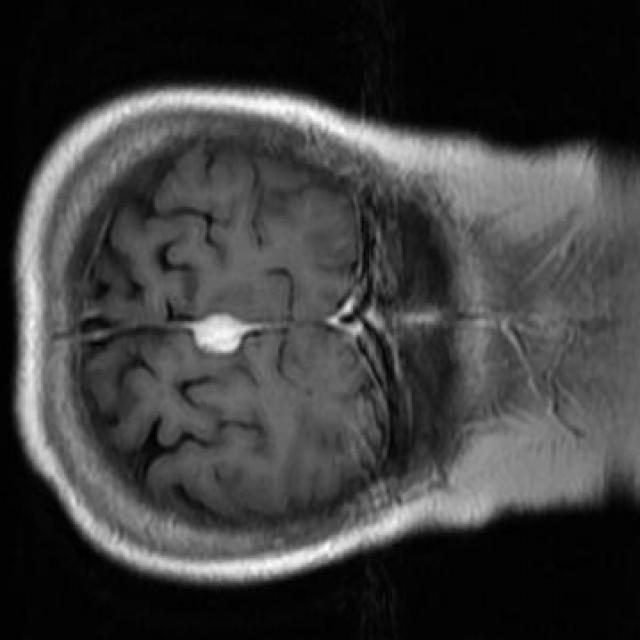meningioma: (194, 316, 244, 355)
